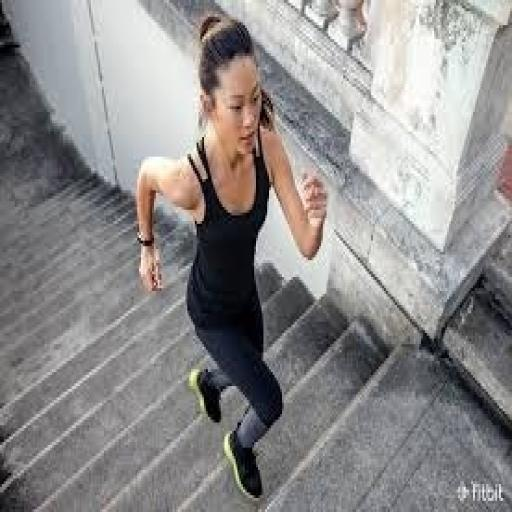running: (132, 11, 328, 504)
